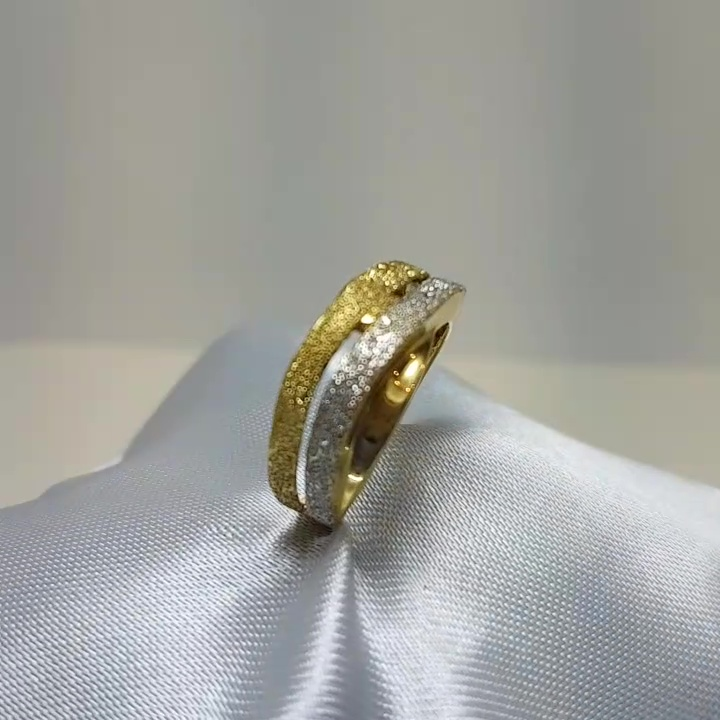Ring 5: (229, 249, 495, 552)
